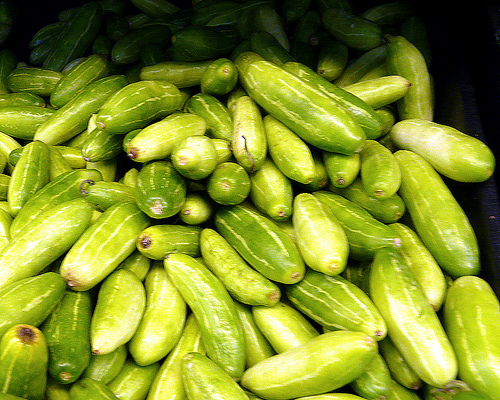cucumber: (162, 252, 250, 382)
